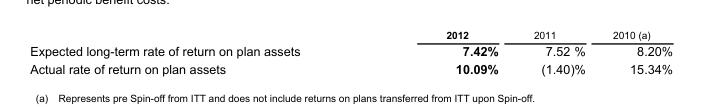table: (29, 29, 671, 75)
table column: (29, 29, 372, 75), (372, 29, 515, 75), (515, 29, 598, 75), (598, 29, 671, 75)
table column header: (29, 29, 671, 42)
table row: (29, 42, 671, 59), (29, 59, 671, 75), (29, 29, 671, 42)
